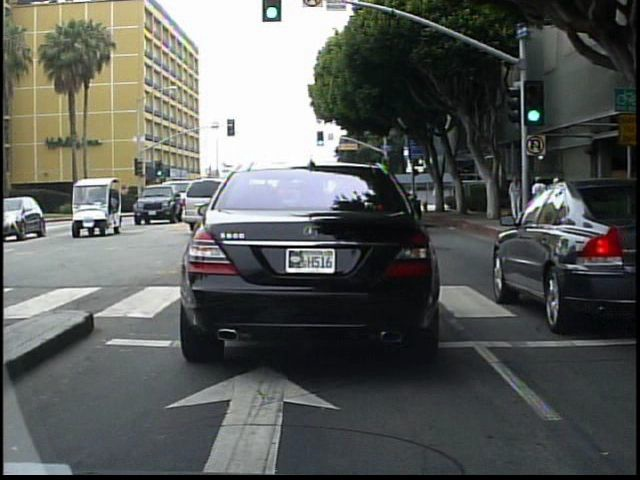person: (529, 175, 554, 227), (507, 174, 525, 225), (436, 184, 450, 210)
